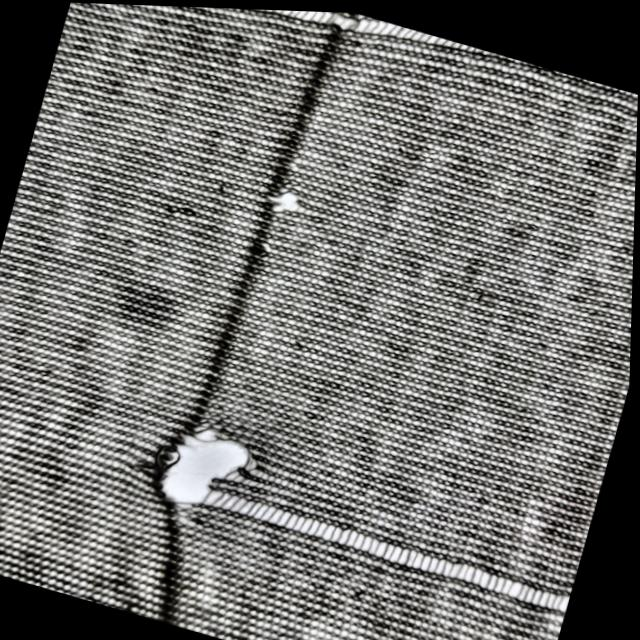Hole: (105, 270, 190, 349), (258, 173, 311, 223)
Stitch: (127, 389, 598, 625), (74, 2, 640, 145)
